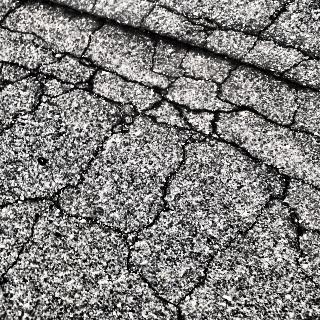alligator-crack: (3, 1, 320, 315)
